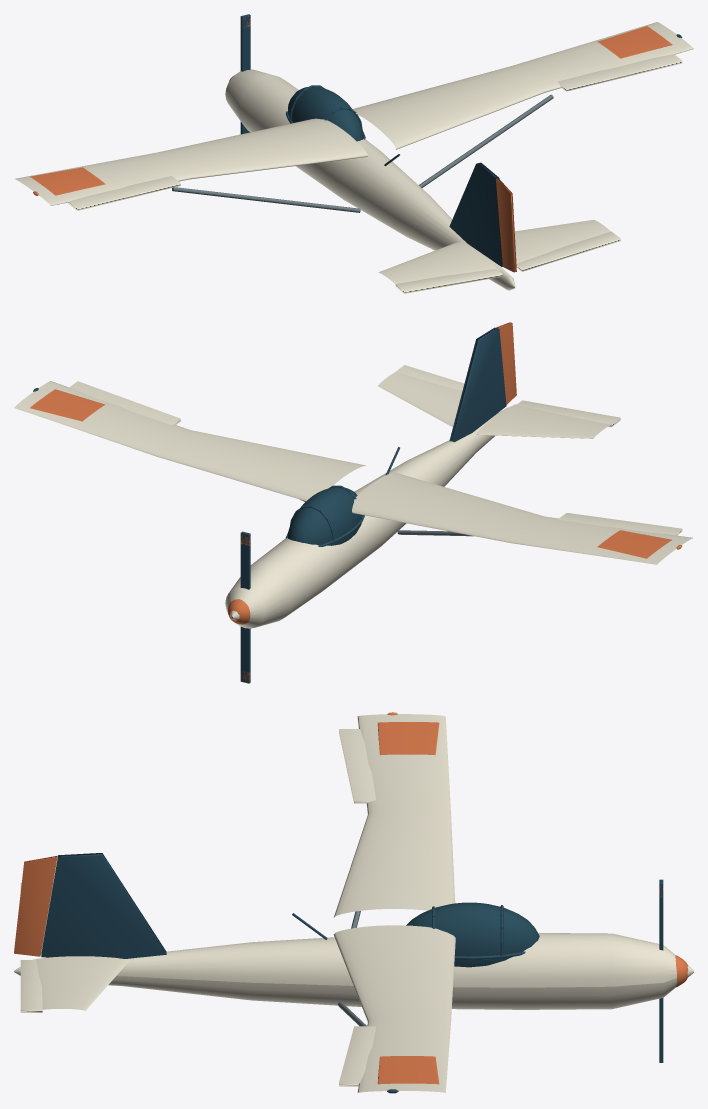
The model's file is player-skylark-hero-v1.glb.
3 renders of one model, top to bottom at view 1: azimuth 30°, elevation 25°; view 2: azimuth 150°, elevation 25°; view 3: azimuth 270°, elevation 25°, orthographic. The views are drawn at different scales.
Visible parts, largest first — view 1: hull, trim, accent, glass, metal, aileron-right, aileron-left, rudder, elevator-right, elevator-left, propeller; view 2: hull, trim, glass, accent, propeller, aileron-right, aileron-left, rudder, elevator-left, elevator-right; view 3: hull, trim, glass, accent, rudder, aileron-left, aileron-right, elevator-right, propeller.
Part boxes in pixels (left/top/right/bottom): hull: left=15, top=22, right=693, bottom=290; trim: left=285, top=85, right=502, bottom=266; accent: left=30, top=26, right=672, bottom=195; glass: left=287, top=34, right=682, bottom=141; metal: left=172, top=94, right=553, bottom=212; aileron-right: left=558, top=54, right=682, bottom=91; aileron-left: left=67, top=176, right=180, bottom=210; rudder: left=496, top=178, right=516, bottom=272; elevator-right: left=516, top=231, right=620, bottom=271; elevator-left: left=395, top=269, right=502, bottom=293; propeller: left=240, top=14, right=250, bottom=134; hull: left=14, top=372, right=692, bottom=628; trim: left=285, top=327, right=506, bottom=546; glass: left=33, top=388, right=362, bottom=545; accent: left=30, top=389, right=682, bottom=624; propeller: left=240, top=531, right=250, bottom=683; aileron-right: left=69, top=381, right=180, bottom=425; aileron-left: left=558, top=513, right=682, bottom=535; rudder: left=496, top=322, right=516, bottom=404; elevator-left: left=516, top=400, right=620, bottom=427; elevator-right: left=395, top=365, right=464, bottom=390; hull: left=14, top=714, right=693, bottom=1092; trim: left=41, top=853, right=525, bottom=959; glass: left=387, top=902, right=539, bottom=1093; accent: left=377, top=712, right=688, bottom=1084; rudder: left=14, top=855, right=57, bottom=956; aileron-left: left=339, top=729, right=375, bottom=803; aileron-right: left=339, top=1026, right=376, bottom=1086; elevator-right: left=20, top=960, right=42, bottom=1012; propeller: left=659, top=879, right=663, bottom=1062.
Size of the model in its own units: 11.87 by 3.01 by 9.
